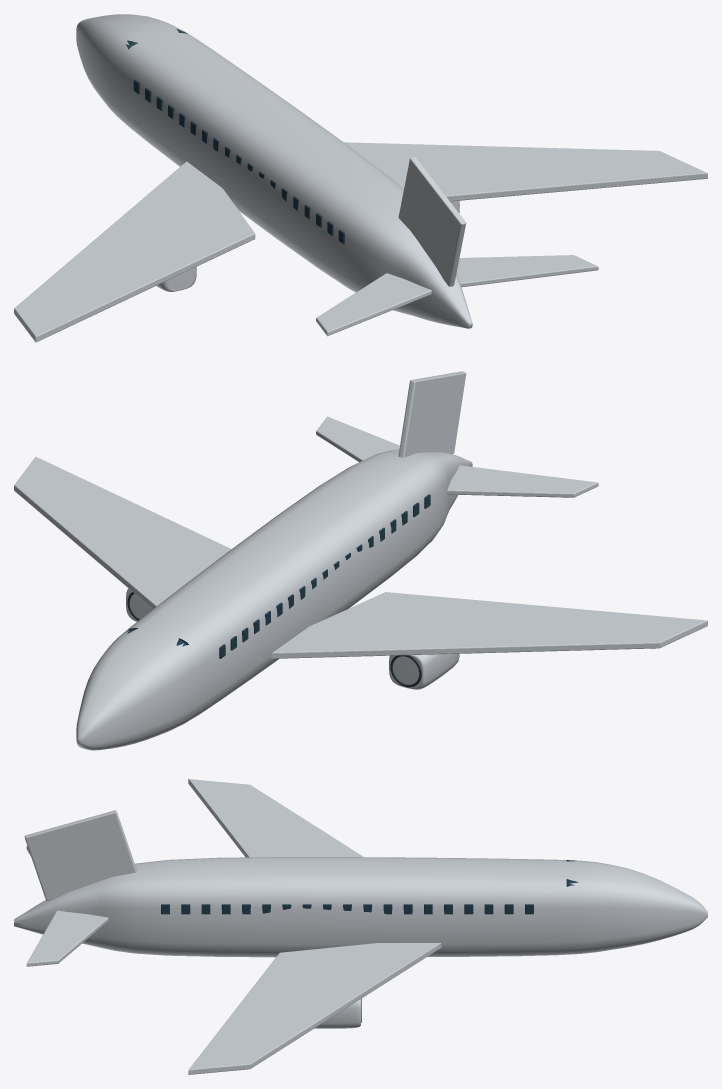
Rendered from airliner.gltf.
The picture shows the model from 3 angles, top to bottom: view 1: azimuth 30°, elevation 25°; view 2: azimuth 150°, elevation 25°; view 3: azimuth 270°, elevation 25°; orthographic projection. The views are drawn at different scales.
Visible parts, largest first — view 1: airliner; view 2: airliner; view 3: airliner.
Part boxes in pixels (<box>): airliner: <box>14,14,707,342</box>; airliner: <box>14,371,707,750</box>; airliner: <box>14,779,707,1074</box>.
Bounding box in the file's own units: 20.45 × 5.13 × 20.6.
